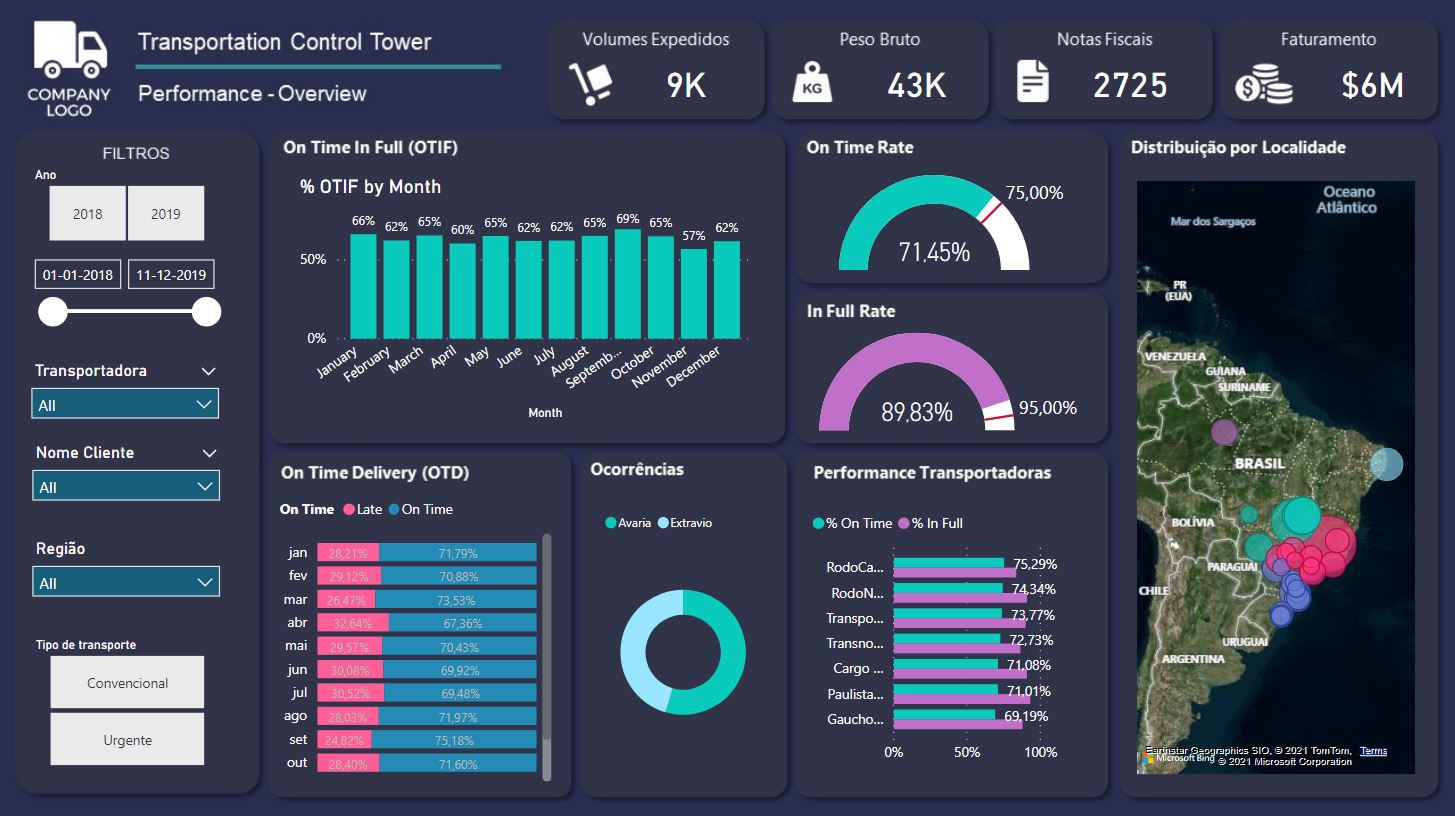

Layout of this report page (visuals, bound fields, positions):
{"tool":"powerbi","page":{"name":"Page 1","canvas":[1280,720],"ordinal":0},"visuals":[{"type":"card","fields":{"Values":["Sum(fNotasFiscais.Qtd de Volumes)"]},"box":[551.2,47.5,104.6,51],"z":0},{"type":"card","fields":{"Values":["Sum(fNotasFiscais.Peso bruto (kg))"]},"box":[754.3,47.5,104.6,51],"z":1000},{"type":"card","fields":{"Values":["Sum(fNotasFiscais.Valor Nota Fiscal)"]},"box":[1155.2,47.5,104.6,51],"z":2000},{"type":"card","fields":{"Values":["DimCalendario.Total NF"]},"box":[942.4,47.5,104.6,51],"z":3000},{"type":"map","fields":{"Size":["Medidas.Total NF"],"Category":["dimCliente.Cidade"],"Series":["dimCliente.Região"]},"box":[995.2,153.8,254.9,531.9],"z":4000},{"type":"gauge","fields":{"Y":["Medidas.% On Time"],"TargetValue":["Medidas.Target on time"]},"box":[709.5,142.4,254.9,100.2],"z":5000},{"type":"gauge","fields":{"Y":["Medidas.% In Full"],"TargetValue":["Medidas.Target In Full"]},"box":[709.5,287.5,254.9,95.8],"z":6000},{"type":"clusteredBarChart","fields":{"Y":["Medidas.% On Time","Medidas.% In Full"],"Category":["dimTransportadora.Transportadora"]},"box":[709.5,440.4,254.9,239.1],"z":7000},{"type":"columnChart","fields":{"Category":["DimCalendario.Data.Variation.Date Hierarchy.Year","DimCalendario.Data.Variation.Date Hierarchy.Quarter","DimCalendario.Data.Variation.Date Hierarchy.Month","DimCalendario.Data.Variation.Date Hierarchy.Day"],"Y":["Medidas.% OTIF"]},"box":[259.3,153.8,408.8,219.8],"z":8000},{"type":"donutChart","fields":{"Y":["Medidas.Total NF"],"Category":["fNotasFiscais.Ocorrência"]},"box":[527.5,440.4,147.7,239.1],"z":9000},{"type":"hundredPercentStackedBarChart","fields":{"Category":["DimCalendario.Data.Variation.Date Hierarchy.Year","DimCalendario.Data.Variation.Date Hierarchy.Quarter","DimCalendario.Data.Variation.Date Hierarchy.Month","DimCalendario.Data.Variation.Date Hierarchy.Day","DimCalendario.Mês Abrev"],"Y":["Medidas.Total NF"],"Series":["fNotasFiscais.On Time"]},"box":[241.8,428.1,248.8,263.7],"z":10000},{"type":"slicer","fields":{"Values":["dimTransportadora.Transportadora"]},"box":[18.5,313,184.6,72.1],"z":11000},{"type":"slicer","fields":{"Values":["dimCliente.Nome Cliente"]},"box":[19.3,385.1,184.6,72.1],"z":12000},{"type":"slicer","fields":{"Values":["dimCliente.Região"]},"box":[19.3,469.5,184.6,72.1],"z":13000},{"type":"slicer","fields":{"Values":["DimCalendario.Data"]},"box":[18.5,218,184.6,94.9],"z":14000},{"type":"slicer","fields":{"Values":["DimCalendario.Year"]},"box":[18.5,142.4,185.5,75.6],"z":15000},{"type":"slicer","fields":{"Values":["fNotasFiscais.Tipo de transporte"]},"box":[19.3,555.6,185.5,124],"z":16000}]}

Visuals, with their boxes in screenshot pixels (x1, y1, x2, y2), scaled from the page's 1280x720 canvas onto the 1455x816 screenshot:
card - Sum(fNotasFiscais.Qtd de Volumes): [left=627, top=54, right=745, bottom=112]
card - Sum(fNotasFiscais.Peso bruto (kg)): [left=857, top=54, right=976, bottom=112]
card - Sum(fNotasFiscais.Valor Nota Fiscal): [left=1313, top=54, right=1432, bottom=112]
card - DimCalendario.Total NF: [left=1071, top=54, right=1190, bottom=112]
map - Medidas.Total NF x dimCliente.Cidade: [left=1131, top=174, right=1421, bottom=777]
gauge - Medidas.% On Time x Medidas.Target on time: [left=807, top=161, right=1096, bottom=275]
gauge - Medidas.% In Full x Medidas.Target In Full: [left=807, top=326, right=1096, bottom=434]
clusteredBarChart - Medidas.% On Time x Medidas.% In Full: [left=807, top=499, right=1096, bottom=770]
columnChart - DimCalendario.Data.Variation.Date Hierarchy.Year x DimCalendario.Data.Variation.Date Hierarchy.Quarter: [left=295, top=174, right=759, bottom=423]
donutChart - Medidas.Total NF x fNotasFiscais.Ocorrência: [left=600, top=499, right=768, bottom=770]
hundredPercentStackedBarChart - DimCalendario.Data.Variation.Date Hierarchy.Year x DimCalendario.Data.Variation.Date Hierarchy.Quarter: [left=275, top=485, right=558, bottom=784]
slicer - dimTransportadora.Transportadora: [left=21, top=355, right=231, bottom=436]
slicer - dimCliente.Nome Cliente: [left=22, top=436, right=232, bottom=518]
slicer - dimCliente.Região: [left=22, top=532, right=232, bottom=614]
slicer - DimCalendario.Data: [left=21, top=247, right=231, bottom=355]
slicer - DimCalendario.Year: [left=21, top=161, right=232, bottom=247]
slicer - fNotasFiscais.Tipo de transporte: [left=22, top=630, right=233, bottom=770]
